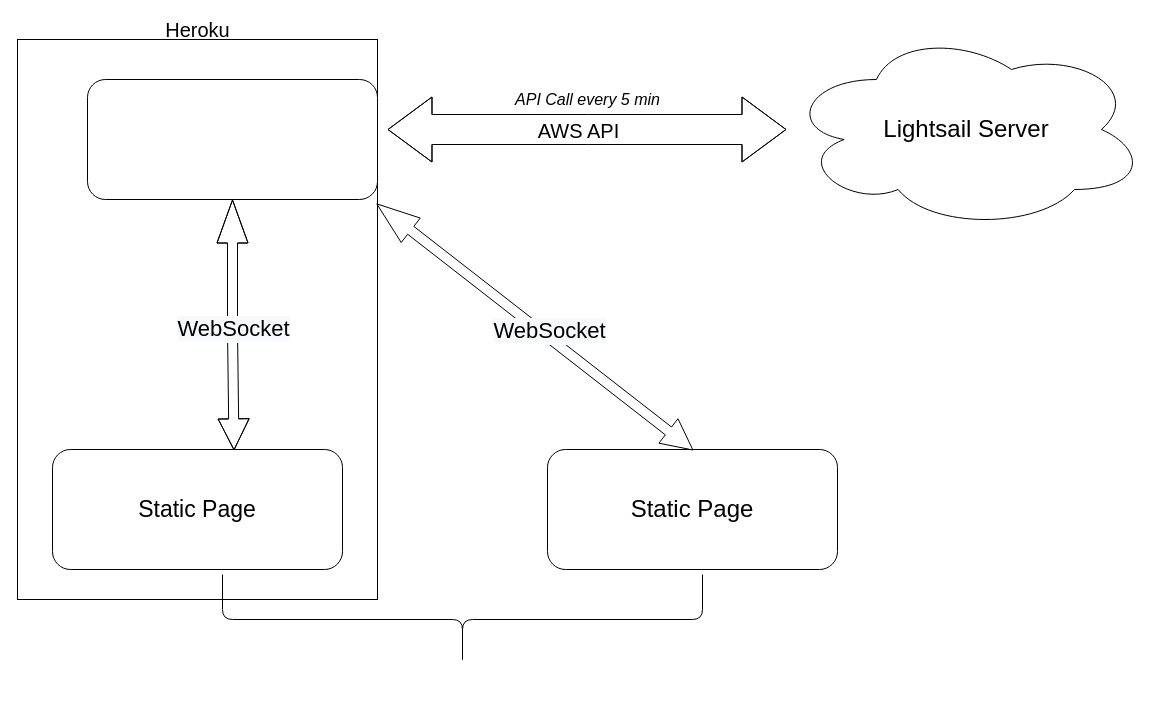
Some shapes in this 1164 by 706 pixel diagram are drawn without their labels. Each missing label, with the centre of its shape:
"Go-Backend Simple Server" belongs at point (232, 139).
"Same Page" belongs at point (462, 619).
